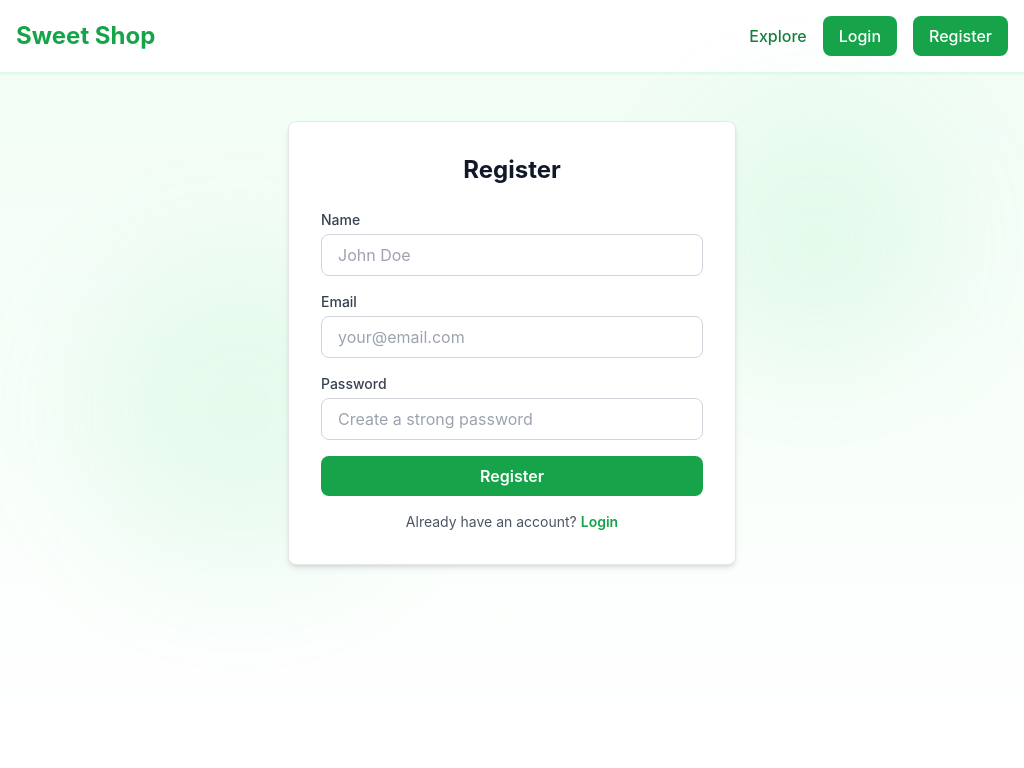
Scenario: RegisterPage › displays error on duplicate email
Type "Test User" into the field labelled "Name".
click(512, 255); type("Test User")  # box left=321, top=234, right=703, bottom=276
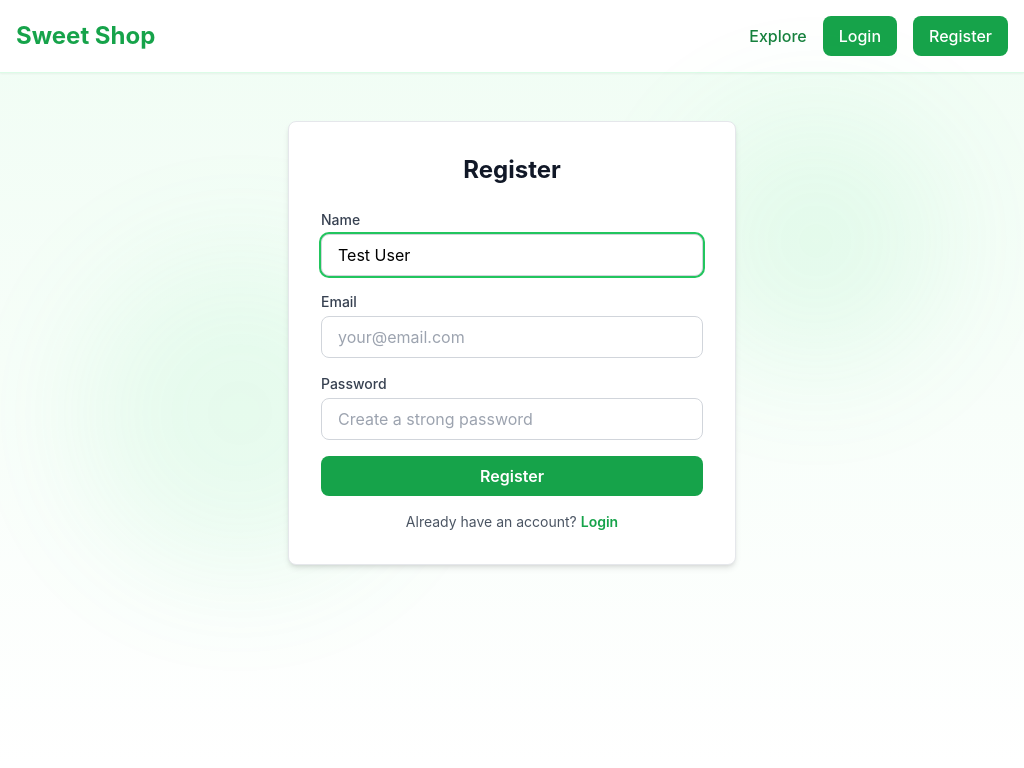
Type "existing@example.com" into the field labelled "Email".
click(512, 337); type("existing@example.com")  # box left=321, top=316, right=703, bottom=358
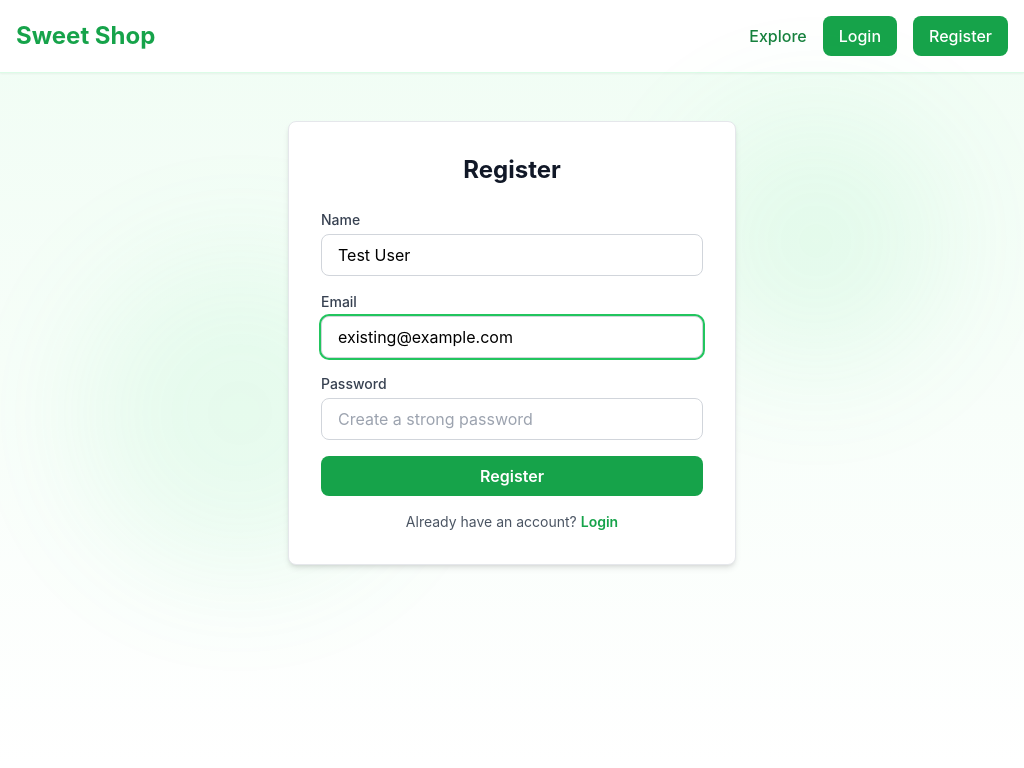
Type "password123" into the password field labelled "Password".
click(512, 419); type("password123")  # box left=321, top=398, right=703, bottom=440
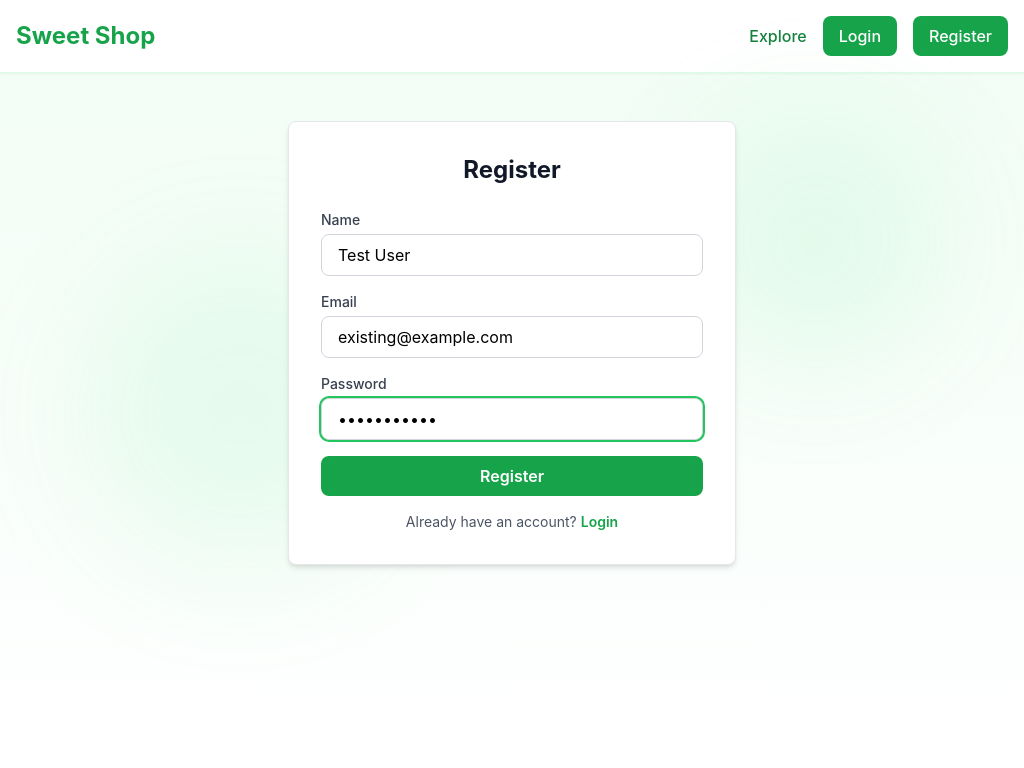
Click the button "Register".
click(512, 476)  # box left=321, top=456, right=703, bottom=496
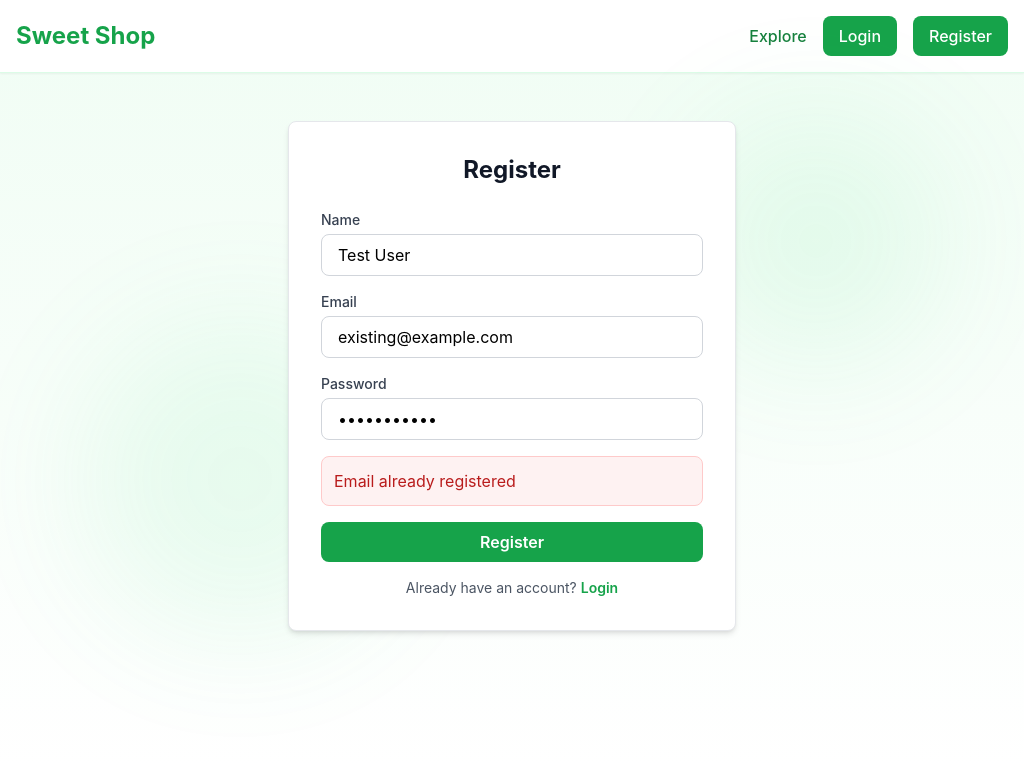
Check: the text "Email already registered" is shown, box left=321, top=456, right=703, bottom=506
